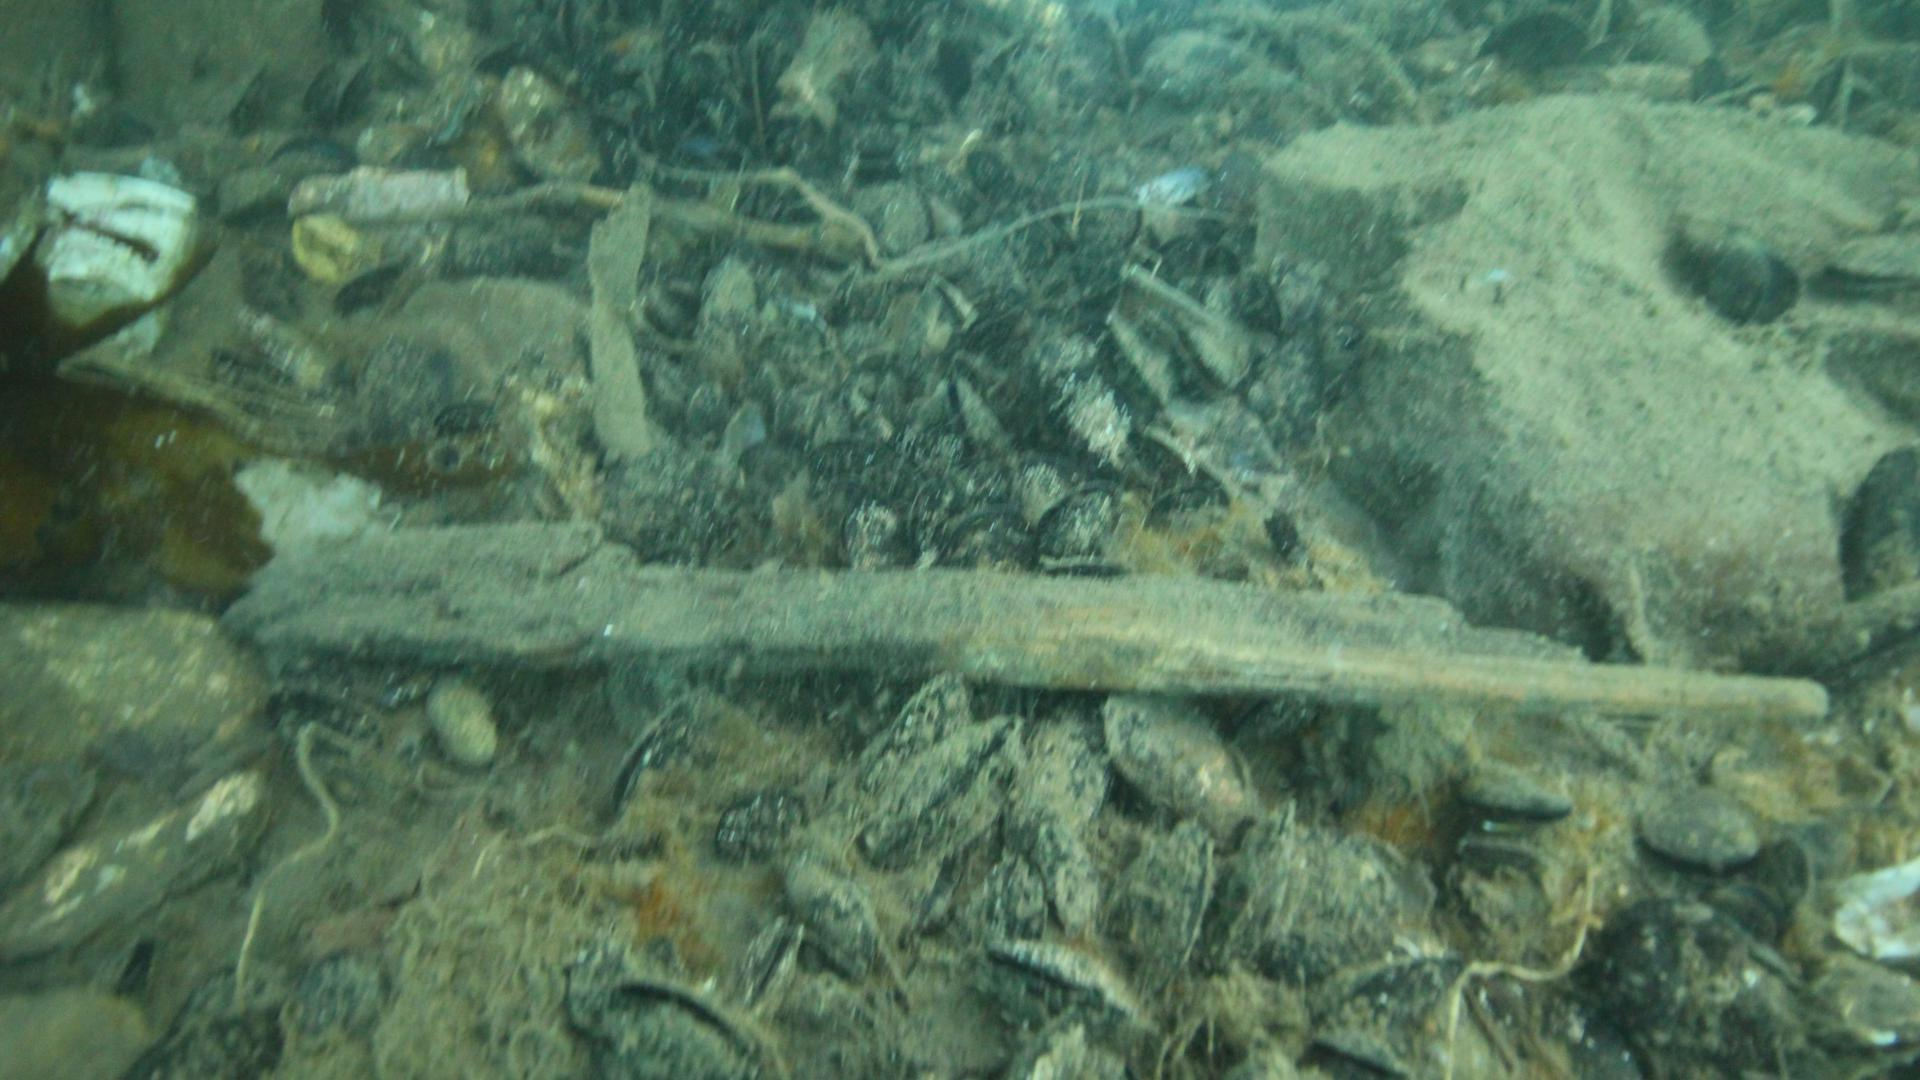wood: (212, 518, 1830, 727)
